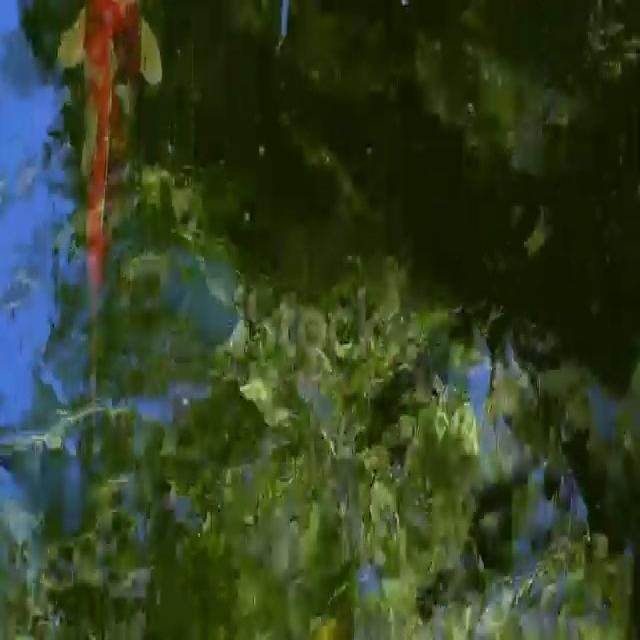fish: (63, 0, 167, 323)
